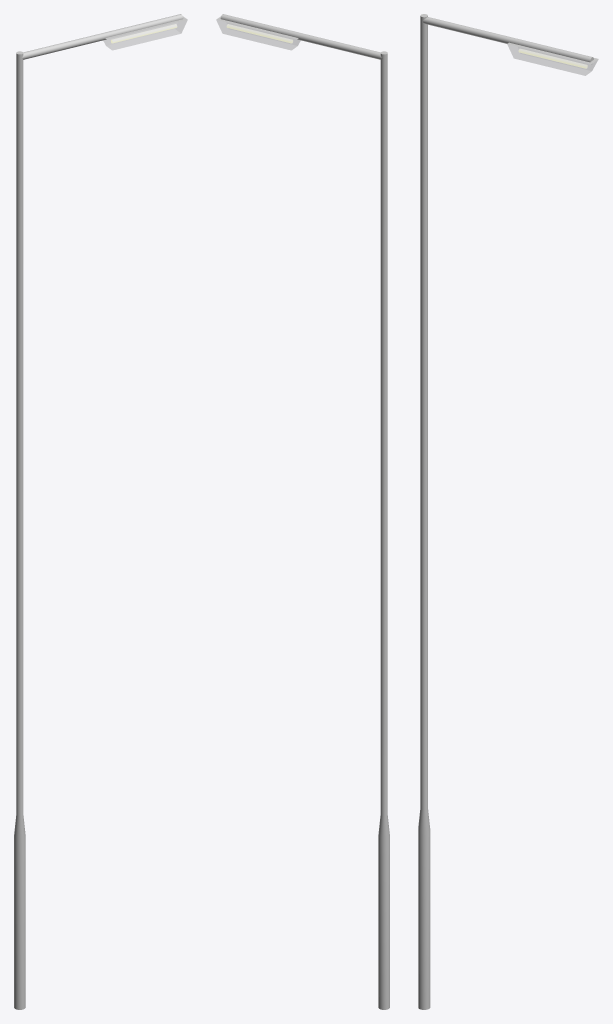
Rendered from StreetLight.FBX.
3 views of the same model, side by side, from view 1: azimuth 30°, elevation 25°; view 2: azimuth 150°, elevation 25°; view 3: azimuth 330°, elevation 25° (orthographic). The views are drawn at different scales.
Visible parts, largest first — view 1: Post, Glass; view 2: Post, Glass; view 3: Post, Glass.
Boxes of the visible parts, x1,y1,x2,y2 form: Post: (14, 14, 187, 1009); Glass: (103, 20, 187, 50); Post: (216, 14, 389, 1009); Glass: (216, 20, 300, 50); Post: (418, 14, 598, 1009); Glass: (507, 44, 597, 75).
Size of the model in its own units: 66.73 by 4.99 by 359.
